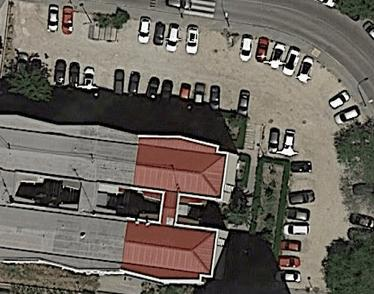parkingspot: (114, 15, 363, 129), (49, 55, 251, 121), (272, 159, 318, 284), (45, 3, 94, 42), (263, 125, 298, 161), (348, 210, 374, 243)
